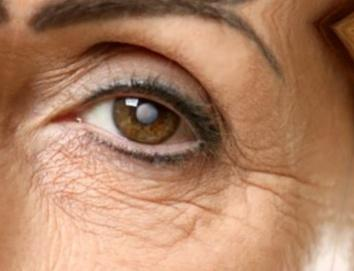eye: (114, 97, 177, 146)
